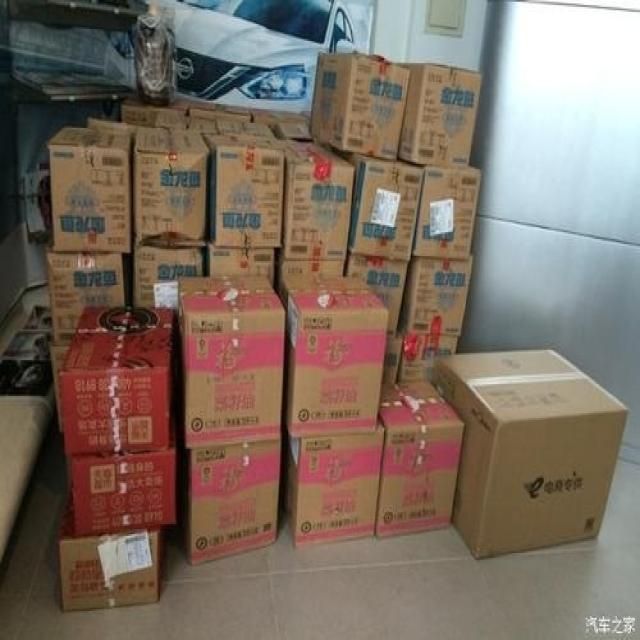Carton: (440, 348, 628, 556), (311, 53, 481, 164), (177, 275, 284, 445), (408, 166, 477, 333), (291, 317, 385, 433), (46, 128, 129, 249), (296, 432, 383, 546), (191, 442, 275, 560), (374, 423, 461, 532), (275, 140, 349, 256), (206, 131, 278, 247), (60, 375, 166, 452), (137, 126, 206, 244), (74, 452, 174, 532), (60, 532, 157, 613), (60, 307, 170, 374), (352, 162, 417, 258), (379, 374, 457, 432), (283, 273, 381, 314)
